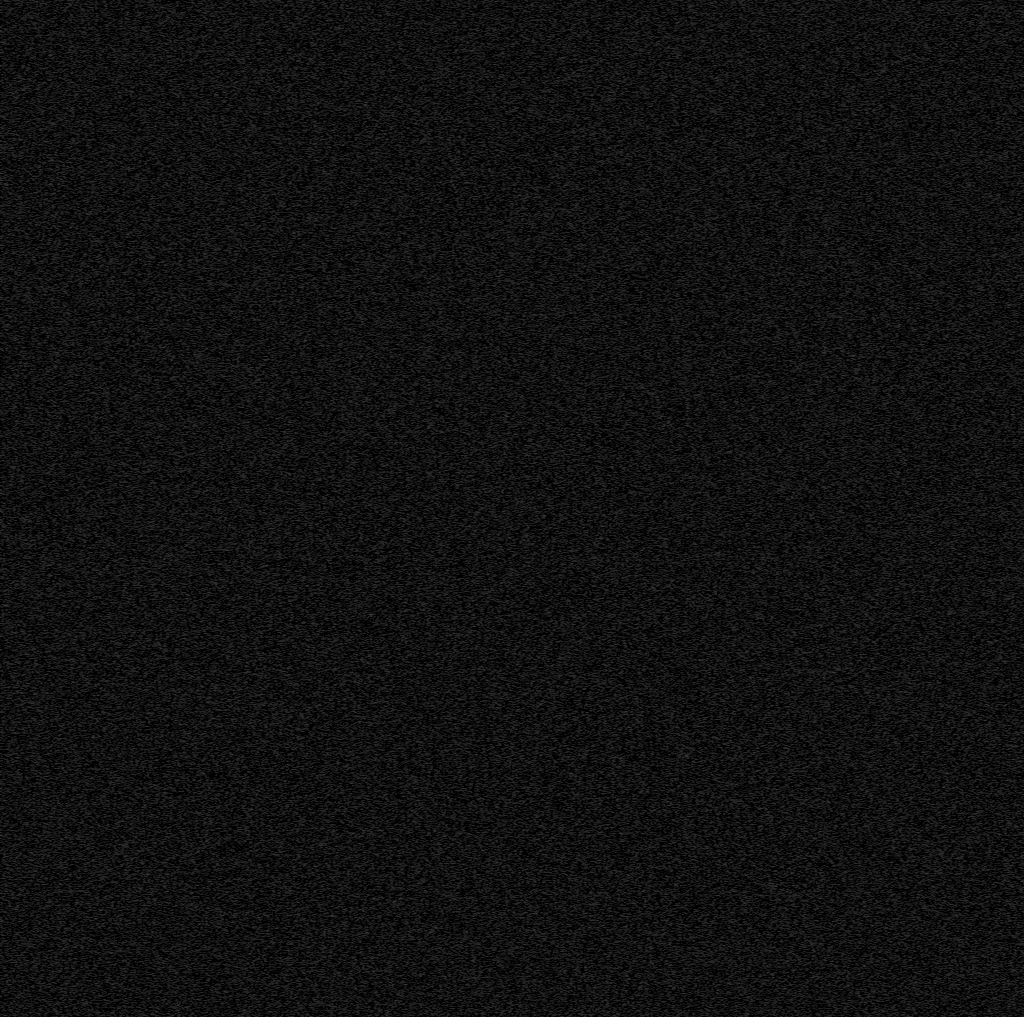wv_am: (518, 0, 524, 985), (518, 1006, 524, 1016)
wv_cw: (301, 0, 306, 1016)
wv_usb: (280, 671, 286, 937), (280, 4, 286, 143), (280, 519, 286, 639), (281, 144, 286, 248), (280, 267, 286, 350), (281, 351, 286, 447), (281, 448, 286, 518), (122, 928, 128, 982), (123, 369, 127, 421), (280, 640, 286, 670), (281, 957, 286, 988), (122, 232, 127, 262), (281, 989, 286, 1016), (122, 345, 127, 368), (123, 983, 127, 1010), (123, 12, 127, 39), (123, 442, 127, 467), (123, 800, 127, 823), (281, 938, 286, 956), (123, 510, 127, 532), (281, 249, 286, 266), (123, 877, 127, 897), (123, 471, 127, 489), (123, 768, 127, 785), (123, 634, 127, 651), (123, 585, 127, 601), (123, 824, 127, 839), (123, 491, 127, 506), (123, 212, 127, 226), (123, 687, 127, 700), (123, 422, 127, 434), (123, 741, 127, 752), (123, 652, 127, 663), (123, 622, 127, 633), (123, 602, 127, 613), (123, 533, 127, 544), (123, 786, 127, 796), (123, 675, 127, 685), (123, 545, 127, 555), (122, 3, 127, 11), (123, 918, 127, 927), (123, 898, 127, 907), (123, 849, 127, 858), (123, 202, 127, 211), (123, 93, 127, 102), (123, 666, 127, 674), (123, 556, 127, 564), (123, 869, 127, 876), (123, 565, 127, 572), (123, 79, 127, 86), (123, 908, 127, 914), (123, 724, 127, 730), (123, 435, 127, 441), (123, 69, 126, 77), (123, 57, 127, 63), (123, 44, 127, 50), (123, 859, 127, 864), (123, 840, 127, 845), (123, 579, 127, 584), (123, 264, 127, 269), (123, 87, 127, 92), (123, 51, 127, 56), (123, 758, 127, 762), (123, 719, 127, 723), (123, 1013, 127, 1016), (123, 714, 126, 718), (123, 701, 126, 705), (123, 618, 127, 621), (123, 614, 127, 617), (123, 575, 127, 578), (123, 40, 127, 43), (123, 865, 126, 868)
